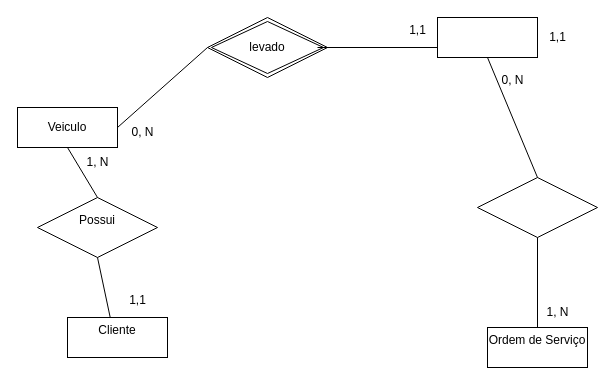
This 615x385 diagram has some shape labels left out. Each missing label, with the centre of its shape:
Executa: point (537, 207)
oficina: point (487, 37)
